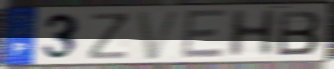3: (40, 11, 84, 63)
B: (275, 9, 323, 57)
E: (180, 9, 229, 62)
H: (226, 8, 279, 60)
V: (134, 9, 184, 62)
Z: (87, 11, 131, 61)
